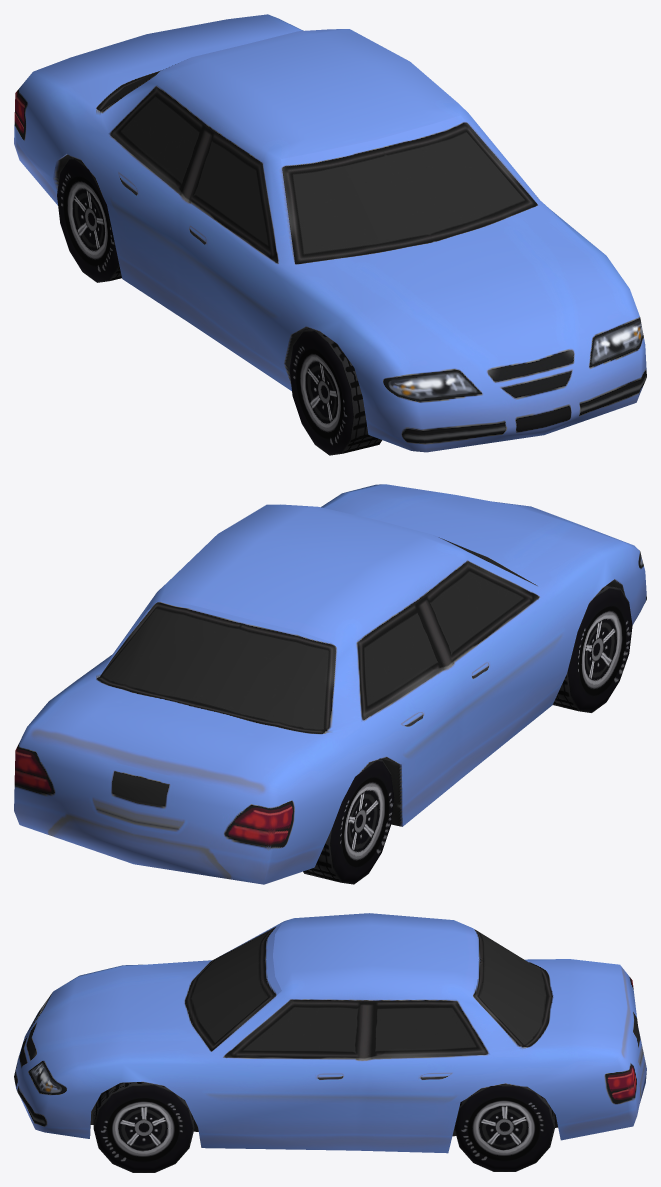
Rendered from Sedan.fbx.
3 views of the same model, one above another, from view 1: azimuth 30°, elevation 25°; view 2: azimuth 150°, elevation 25°; view 3: azimuth 270°, elevation 25° (orthographic). The views are drawn at different scales.
Parts seen in each view (by area): view 1: SedanBody, WheelFR, WheelBR; view 2: SedanBody, WheelFR, WheelBR; view 3: SedanBody, WheelFL, WheelBL.
Part boxes in pixels (bbox=[...]): SedanBody: bbox=[14, 14, 646, 452]; WheelFR: bbox=[289, 328, 382, 455]; WheelBR: bbox=[57, 157, 121, 282]; SedanBody: bbox=[14, 484, 646, 884]; WheelFR: bbox=[553, 585, 632, 712]; WheelBR: bbox=[303, 758, 394, 884]; SedanBody: bbox=[14, 913, 646, 1153]; WheelFL: bbox=[93, 1082, 194, 1172]; WheelBL: bbox=[454, 1086, 555, 1171].
Bounding box in the file's own units: 209 × 155 × 506.
